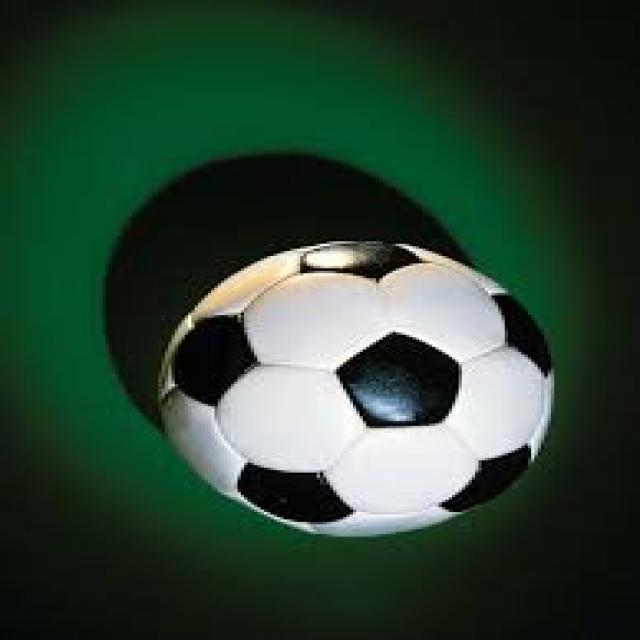football: (148, 246, 554, 542)
